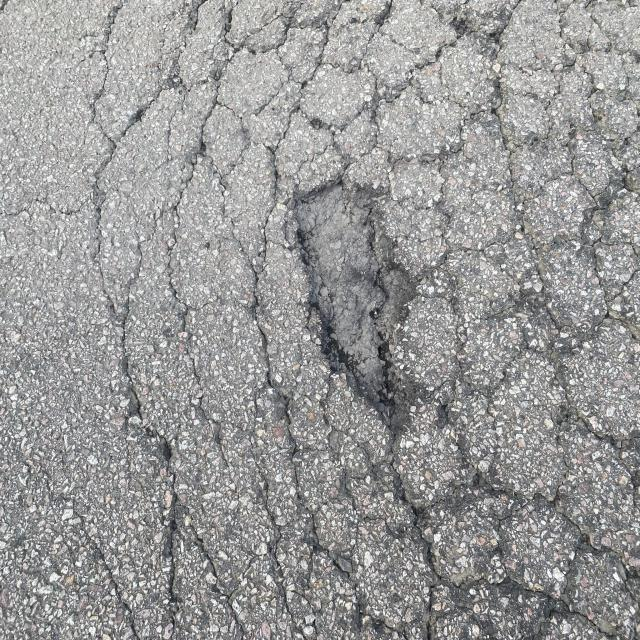pothole: (246, 124, 444, 456)
